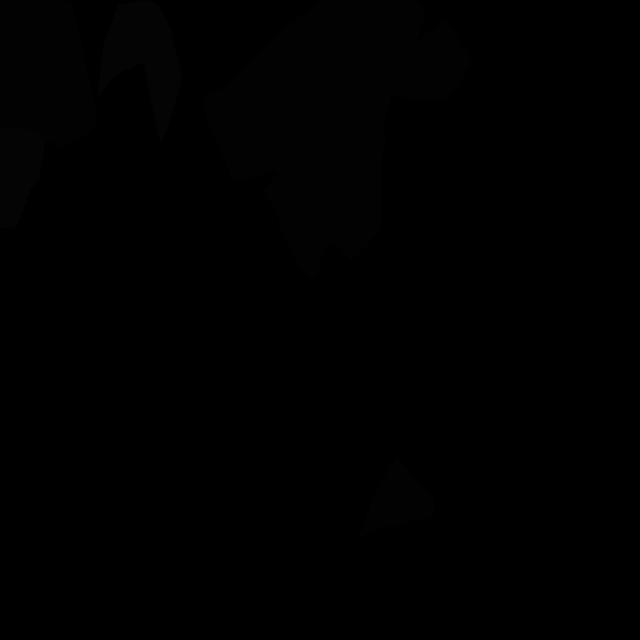cardboard: (201, 0, 473, 281), (0, 0, 97, 150), (357, 455, 436, 538)
soft_plastic: (96, 0, 182, 144), (0, 128, 44, 229)
